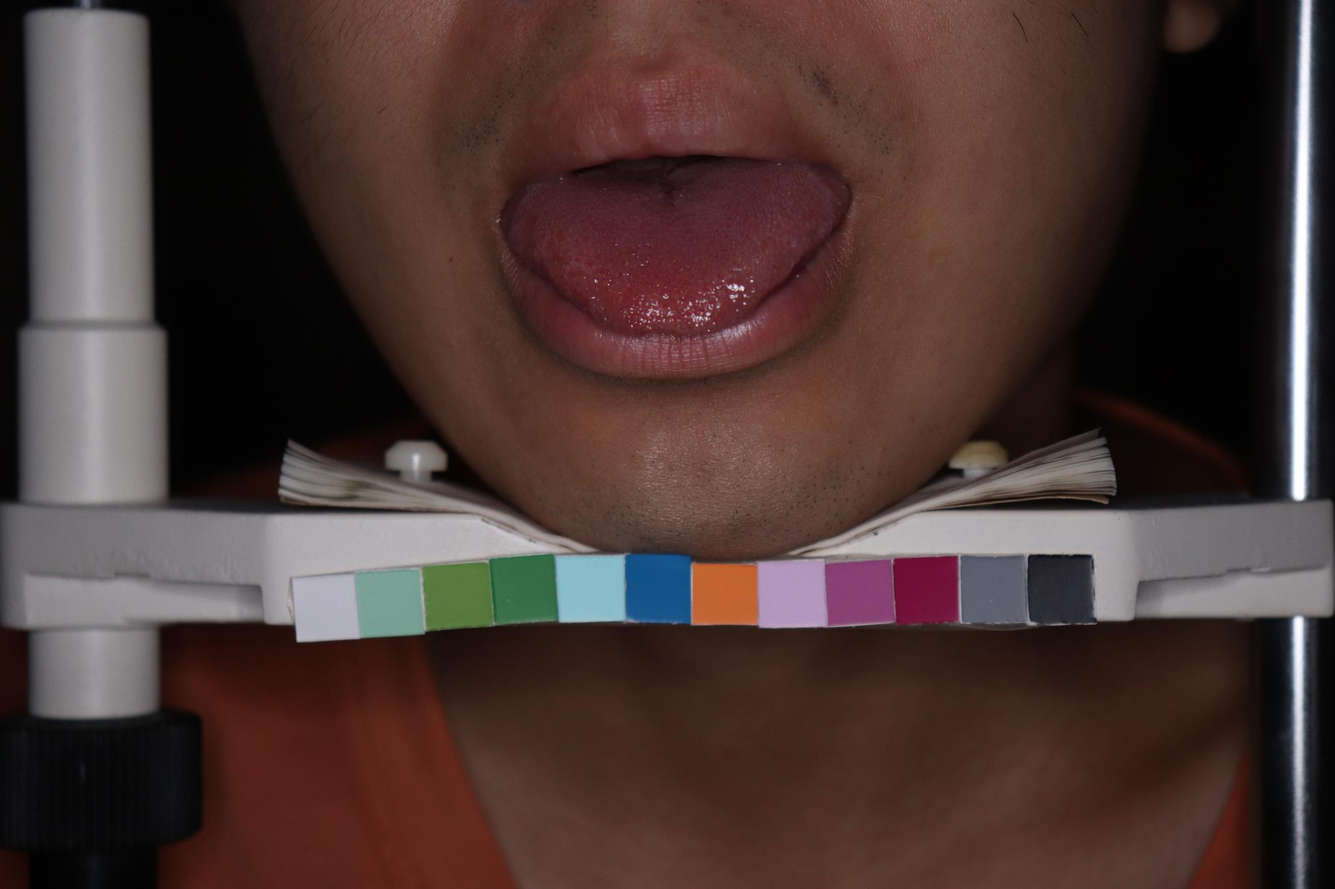hongshe: (501, 164, 845, 336)
